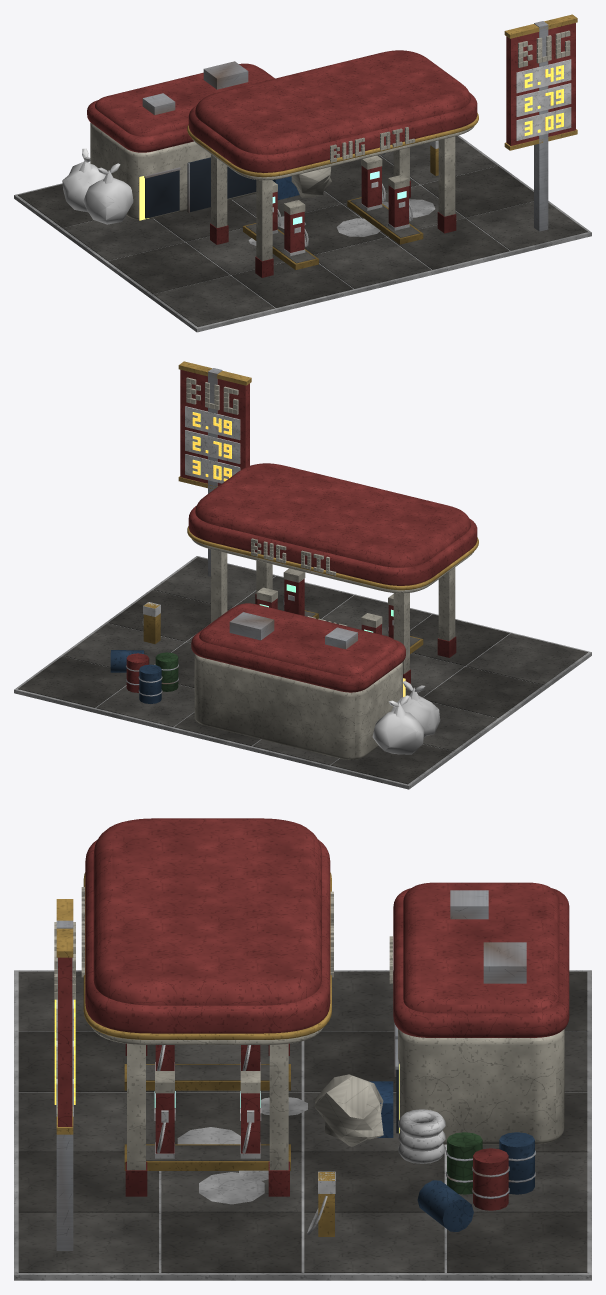
File: gas_station.glb
3 renders of one model, top to bottom at view 1: azimuth 30°, elevation 25°; view 2: azimuth 150°, elevation 25°; view 3: azimuth 270°, elevation 25°, orthographic. The views are drawn at different scales.
Visible parts, largest first — view 1: gas_station, group_292, trash_bag_572, trash_bag_577, group_179, group_201, group_191, group_293, group_45, crumpled_paper_582; view 2: gas_station, group_432, trash_bag_577, trash_bag_572, group_433, group_201, group_106; view 3: gas_station, crumpled_paper_582, group_191, group_201.
Part boxes in pixels (bbox=[...]): gas_station: bbox=[14, 14, 591, 332]; group_292: bbox=[516, 59, 571, 140]; trash_bag_572: bbox=[83, 163, 133, 224]; trash_bag_577: bbox=[62, 148, 105, 212]; group_179: bbox=[283, 200, 308, 256]; group_201: bbox=[388, 174, 412, 230]; group_191: bbox=[361, 155, 385, 210]; group_293: bbox=[518, 30, 570, 67]; group_45: bbox=[330, 127, 415, 162]; crumpled_paper_582: bbox=[291, 166, 331, 197]; gas_station: bbox=[14, 361, 591, 789]; group_432: bbox=[185, 406, 240, 483]; trash_bag_577: bbox=[372, 695, 424, 754]; trash_bag_572: bbox=[391, 681, 440, 738]; group_433: bbox=[186, 377, 238, 414]; group_201: bbox=[283, 568, 305, 615]; group_106: bbox=[251, 538, 336, 575]; gas_station: bbox=[14, 818, 591, 1280]; crumpled_paper_582: bbox=[314, 1074, 383, 1146]; group_191: bbox=[240, 1071, 261, 1158]; group_201: bbox=[154, 1071, 175, 1158].
Bounding box in the file's own units: 30.3 × 15.3 × 24.3.
19 materials, 15 textured.
